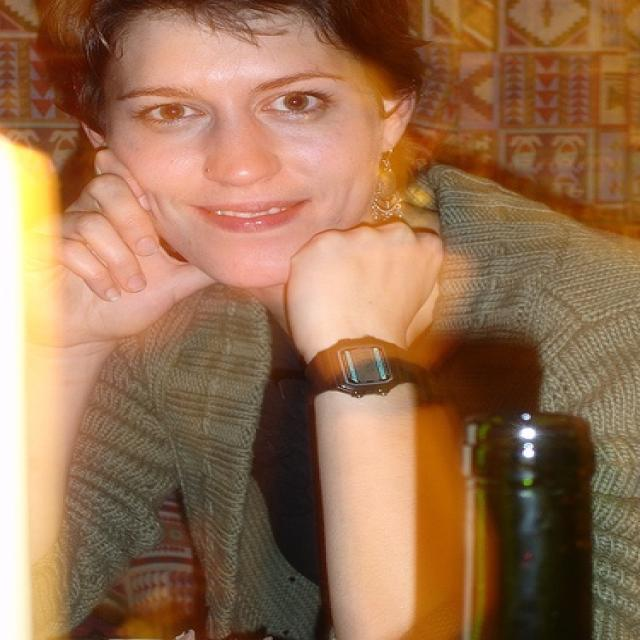bottle: (465, 409, 597, 640)
person: (5, 1, 638, 640)
